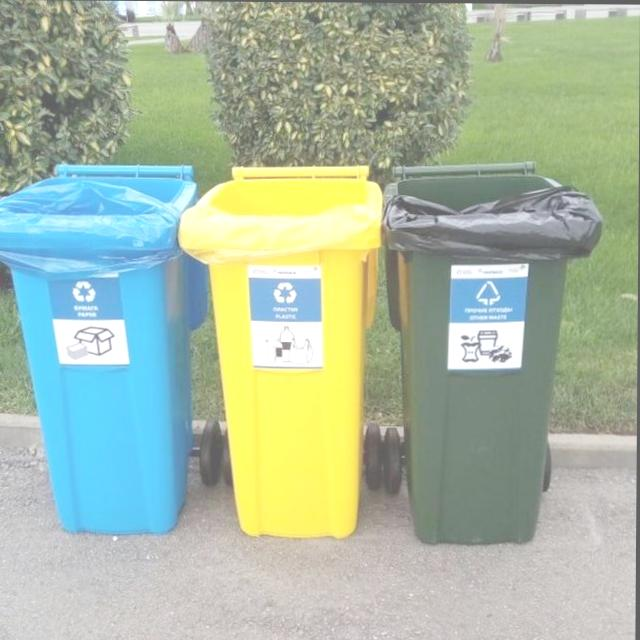Trash_Can_Empty: (384, 162, 603, 543), (0, 165, 208, 532), (179, 164, 382, 538)
